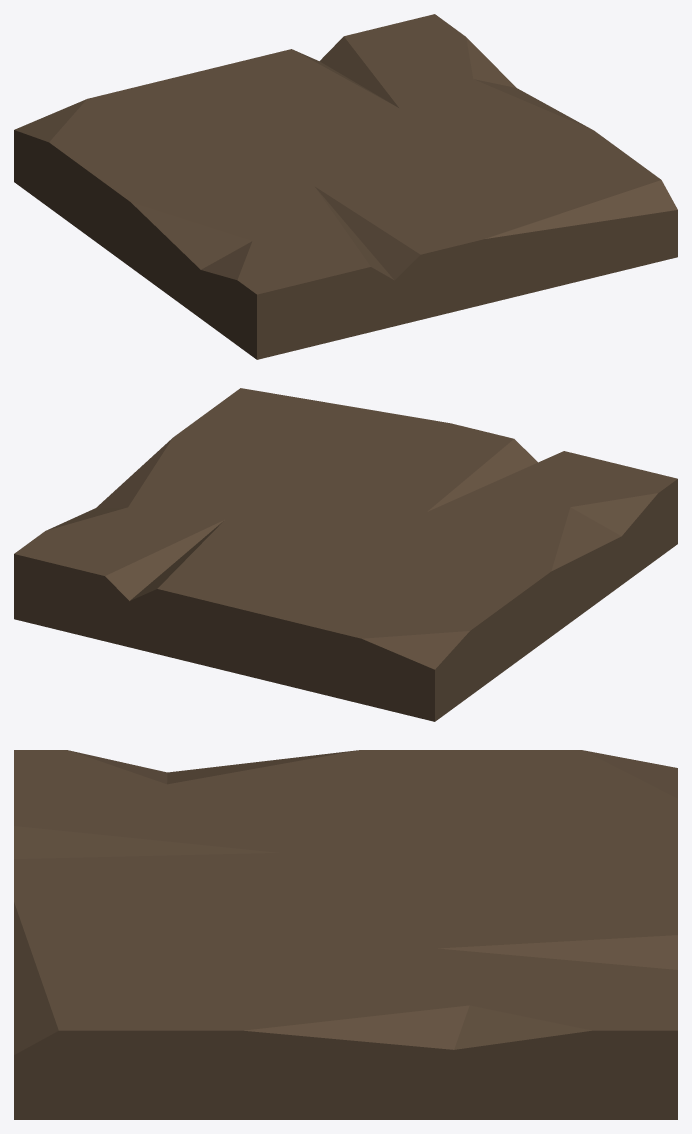
The model's file is SM_Bld_Support_Block_01.glb.
3 views of the same model, one above another, from view 1: azimuth 30°, elevation 25°; view 2: azimuth 150°, elevation 25°; view 3: azimuth 270°, elevation 25° (orthographic). The views are drawn at different scales.
Parts seen in each view (by area): view 1: SM_Bld_Support_Block_01; view 2: SM_Bld_Support_Block_01; view 3: SM_Bld_Support_Block_01.
Boxes of the visible parts, left/top/right/bottom form: SM_Bld_Support_Block_01: left=14, top=14, right=677, bottom=359; SM_Bld_Support_Block_01: left=14, top=388, right=677, bottom=721; SM_Bld_Support_Block_01: left=14, top=750, right=677, bottom=1119.
Bounding box in the file's own units: 25.82 × 3.83 × 25.82.
Materials: 1 (1 with a texture image).
